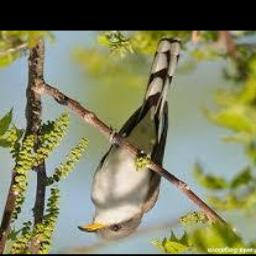Cuckoo: (77, 37, 184, 239)
